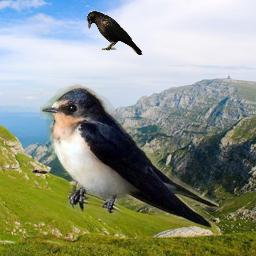Crow: (87, 11, 143, 55)
Swallow: (40, 84, 219, 234)
